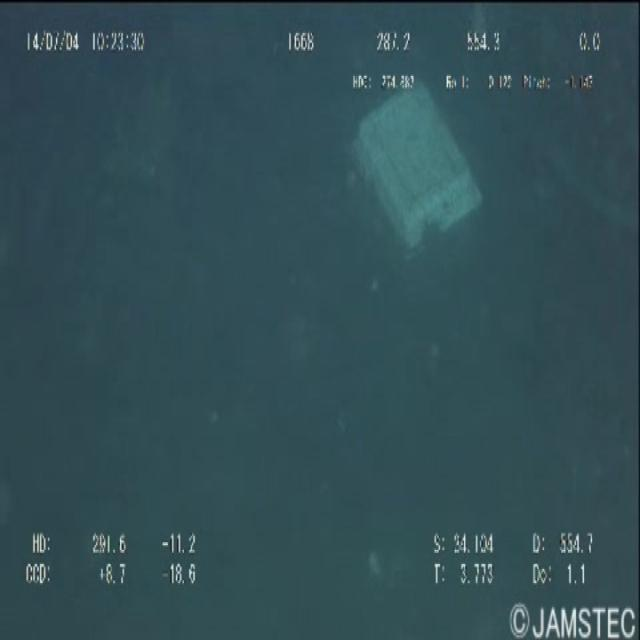Cutlery: (350, 72, 487, 268)
